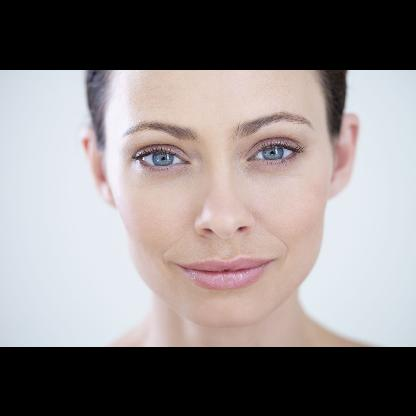Female: (81, 68, 361, 324)
